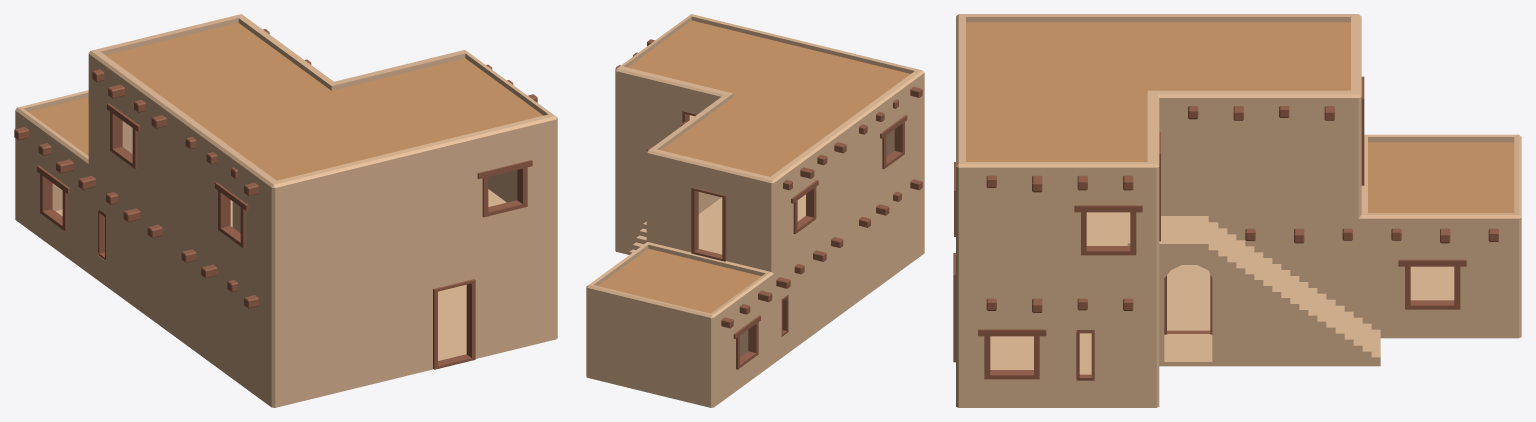
Rendered from Large Building Frame B.fbx.
The picture shows the model from 3 angles, left to right: view 1: azimuth 30°, elevation 25°; view 2: azimuth 150°, elevation 25°; view 3: azimuth 270°, elevation 25°; orthographic projection. The views are drawn at different scales.
Parts seen in each view (by area): view 1: Large Building Frame B; view 2: Large Building Frame B; view 3: Large Building Frame B.
Part boxes in pixels (box(x1,y1,x2,y2)): Large Building Frame B: box(14, 14, 557, 407); Large Building Frame B: box(586, 14, 924, 407); Large Building Frame B: box(953, 14, 1521, 407).
Bounding box in the file's own units: 963 × 653 × 1386.
